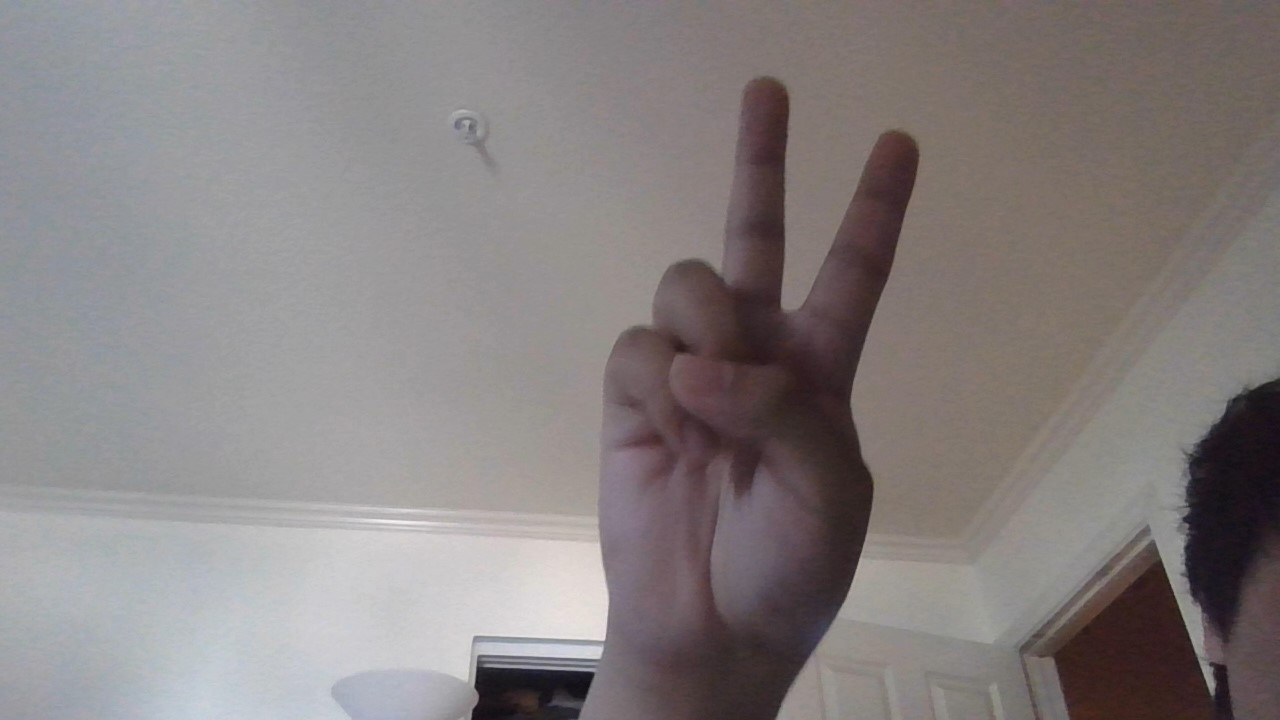v: (559, 74, 920, 670)
